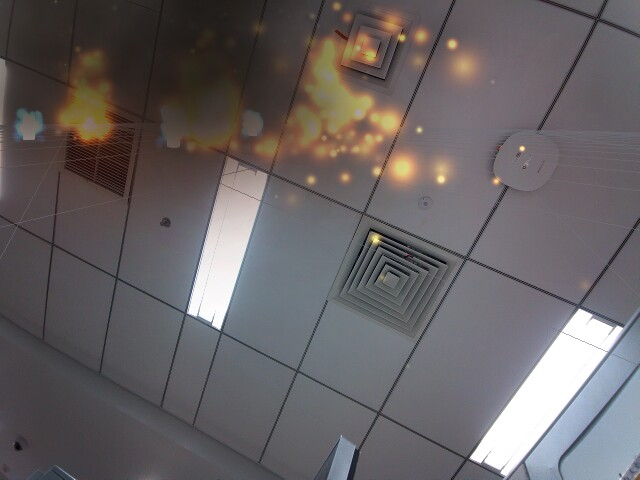fire: (178, 87, 240, 149)
